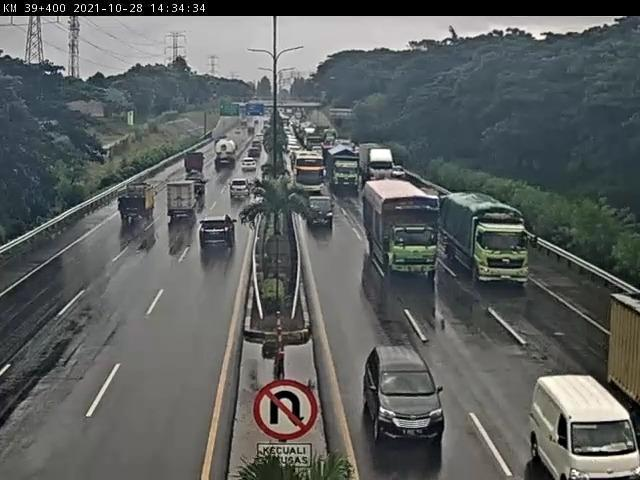bus: (293, 153, 329, 202)
car: (526, 374, 640, 480), (361, 345, 449, 446), (199, 213, 240, 254), (302, 193, 338, 230), (226, 182, 254, 208)
truck: (445, 194, 535, 285), (364, 180, 443, 278), (118, 181, 161, 222), (326, 143, 362, 191), (168, 181, 207, 222), (360, 143, 398, 183), (181, 151, 207, 176)
